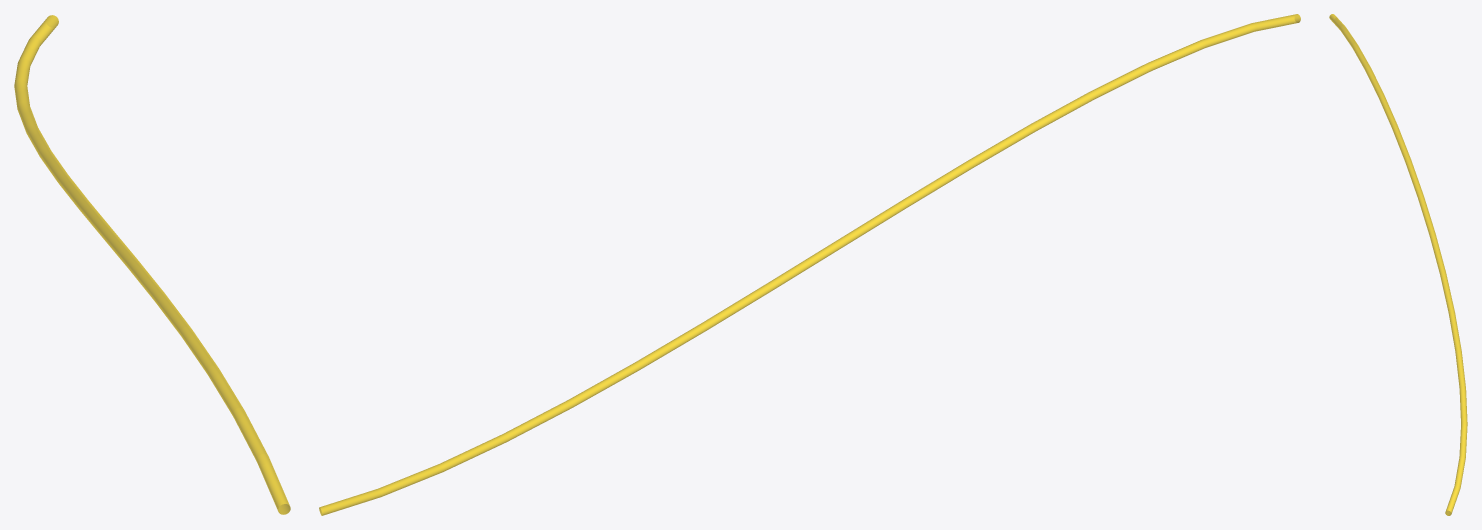
The model's file is Event_15818458_track_53.fbx.
3 views of the same model, side by side, from view 1: azimuth 90°, elevation 25°; view 2: azimuth 210°, elevation 25°; view 3: azimuth 270°, elevation 25° (orthographic). The views are drawn at different scales.
Parts seen in each view (by area): view 1: Model; view 2: Model; view 3: Model.
Boxes of the visible parts, bbox=[...] form: Model: bbox=[14, 15, 290, 514]; Model: bbox=[319, 14, 1300, 515]; Model: bbox=[1329, 14, 1467, 515].
Size of the model in its own units: 5.39 by 0.9567 by 0.8485.
